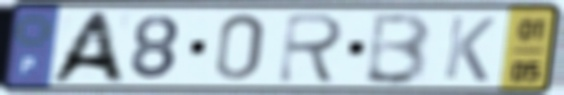0: (211, 11, 269, 85)
8: (129, 13, 182, 81)
A: (43, 10, 130, 85)
B: (360, 10, 434, 87)
K: (440, 13, 499, 84)
R: (274, 11, 349, 86)
